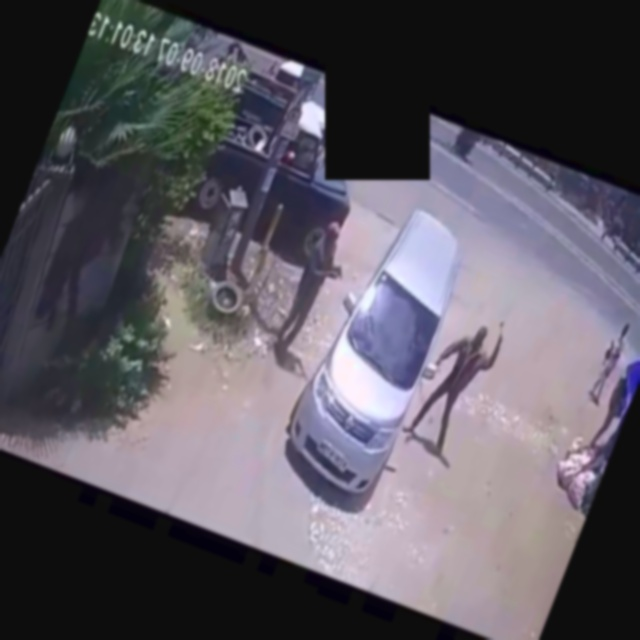gun: (493, 317, 510, 341), (334, 259, 350, 281)
